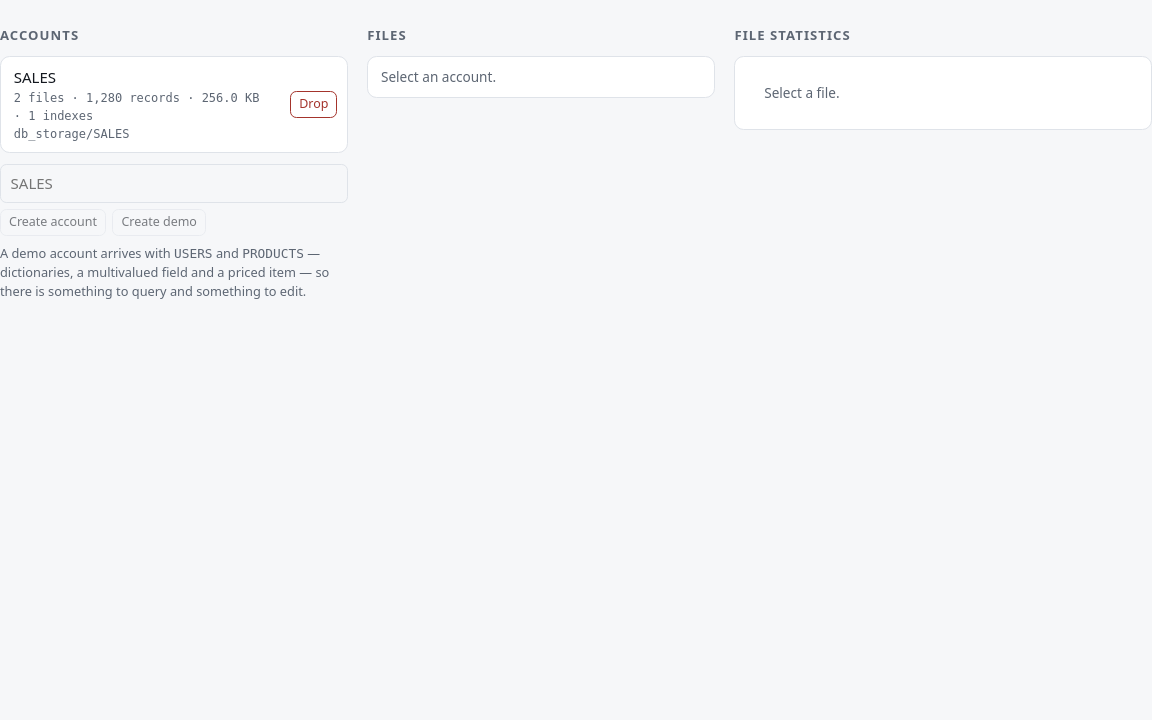
Test: the accounts view › reports the next key an autokey file would hand out
Click the button with class "select". click: (142, 105)
box: [1,58,284,152]
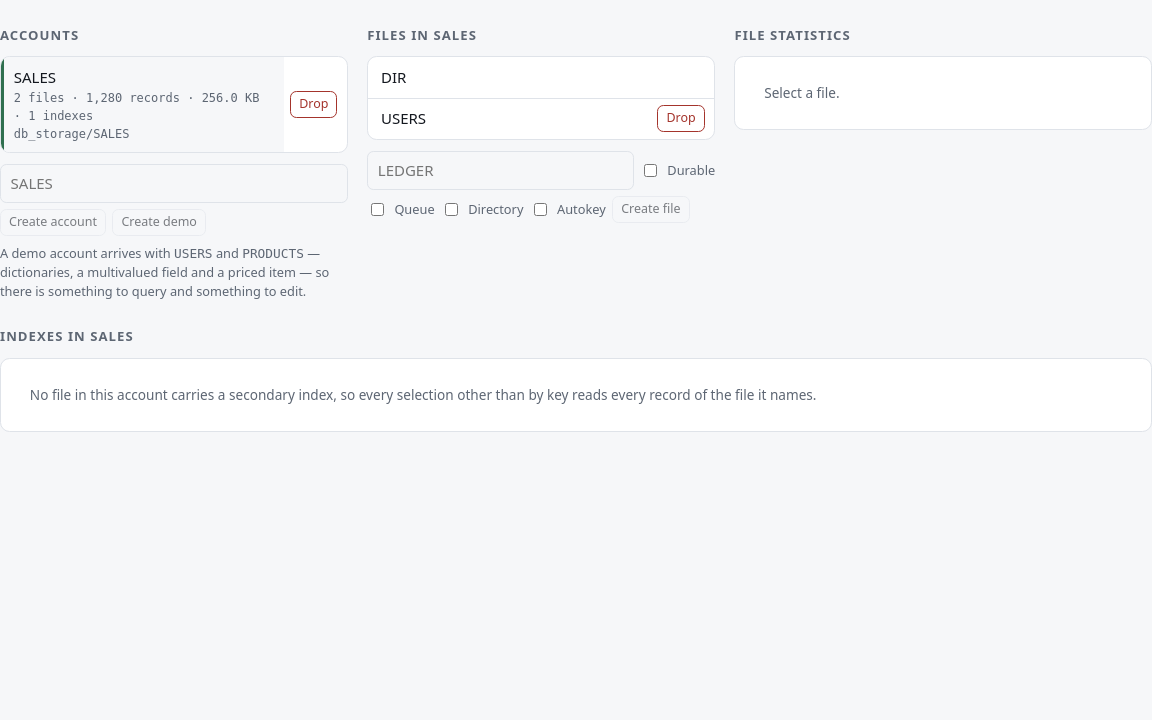
Click the button with class "select" showing "USERS". click: (404, 118)
box: [368,99,651,139]
(page scrolled)
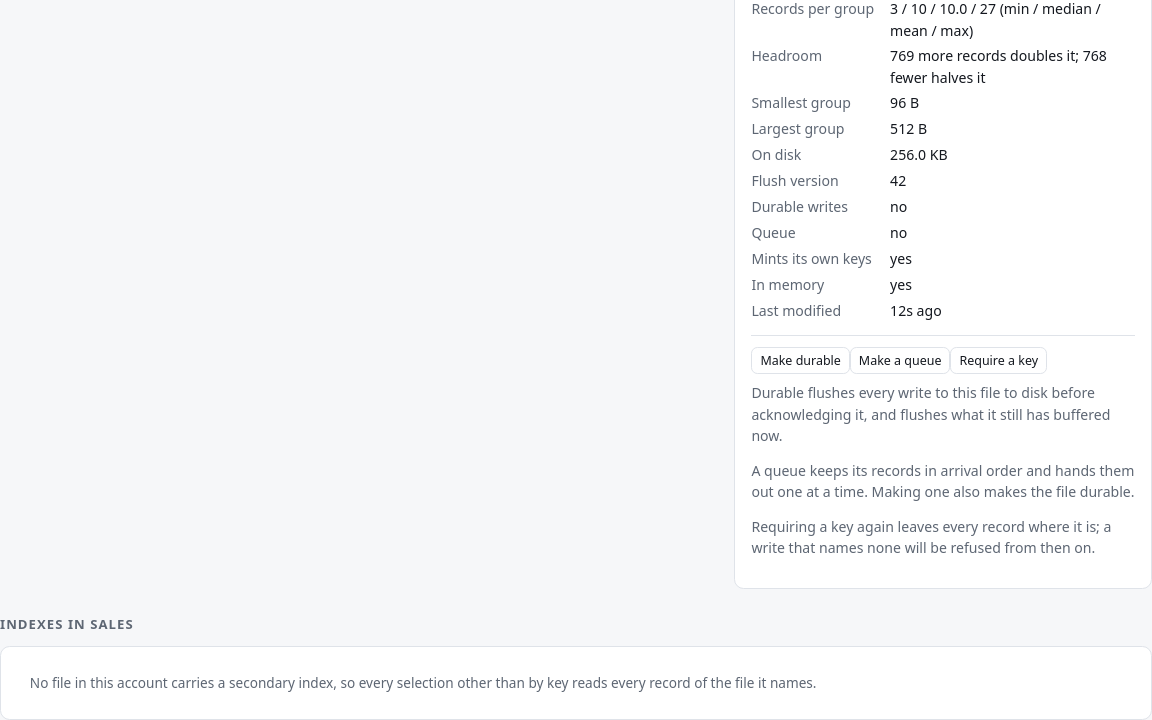
Result: the button "Require a key" is shown at [950,347,1047,374]
